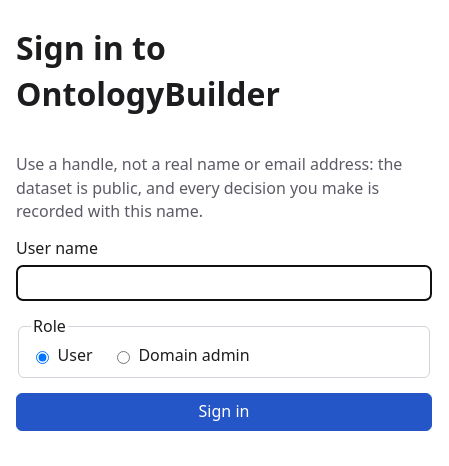
SignIn › shows_the_server_refusal
Type "alice" into the field labelled "User name" at x=224, y=283, box [16,264,432,301]
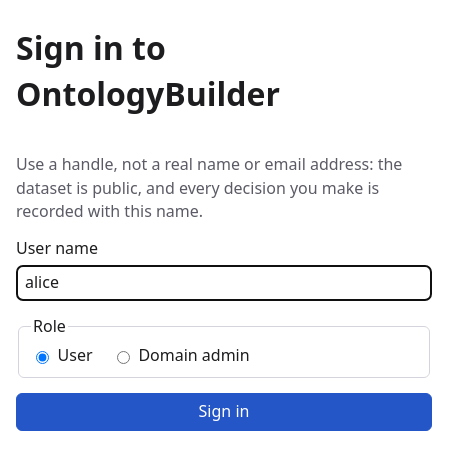
Click the button "Sign in" at x=224, y=412, box [16,393,432,431]
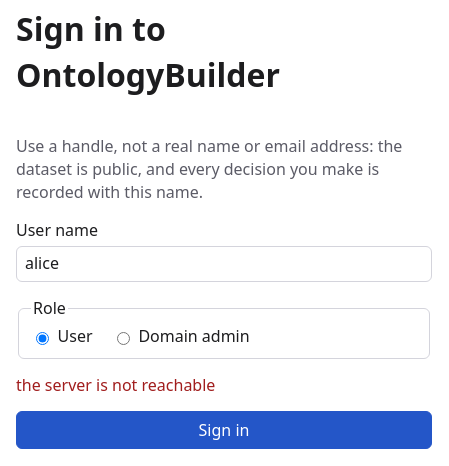
Now the message reads "the server is not reachable", box [16,374,215,396]
